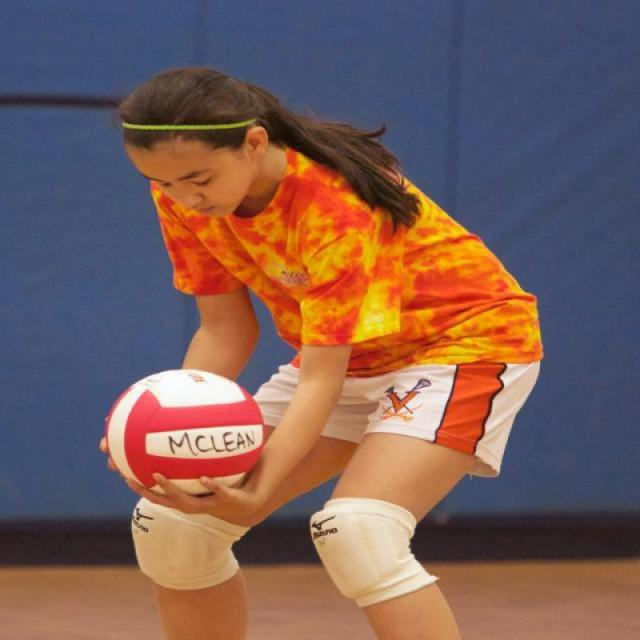volleyball: (105, 370, 265, 494)
